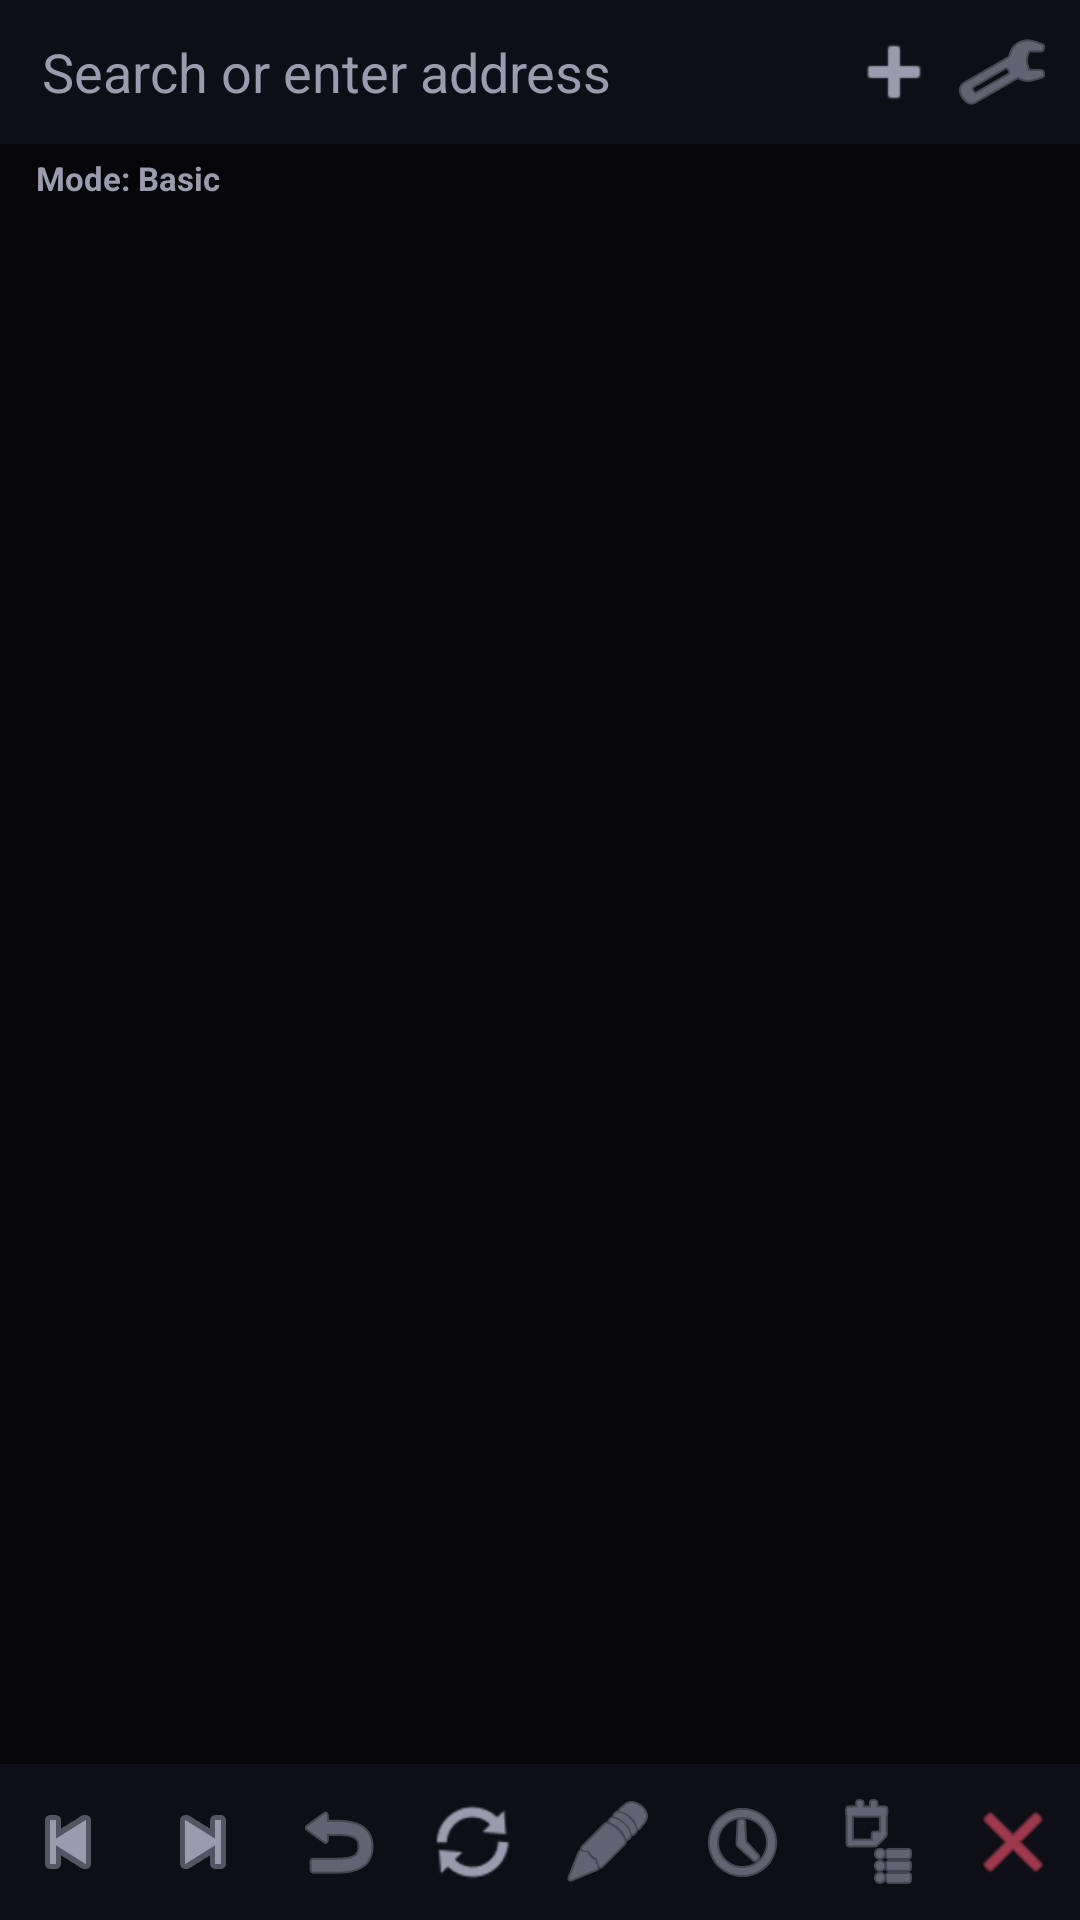

Icon bounding boxes for this 1080x1920 phone screenshot, format (x1, y1, x2, y2):
Back: (45, 1815, 91, 1869)
Clear session: (983, 1812, 1043, 1872)
Forward: (180, 1815, 226, 1869)
New tab: (867, 45, 921, 99)
Reload: (436, 1806, 509, 1878)
